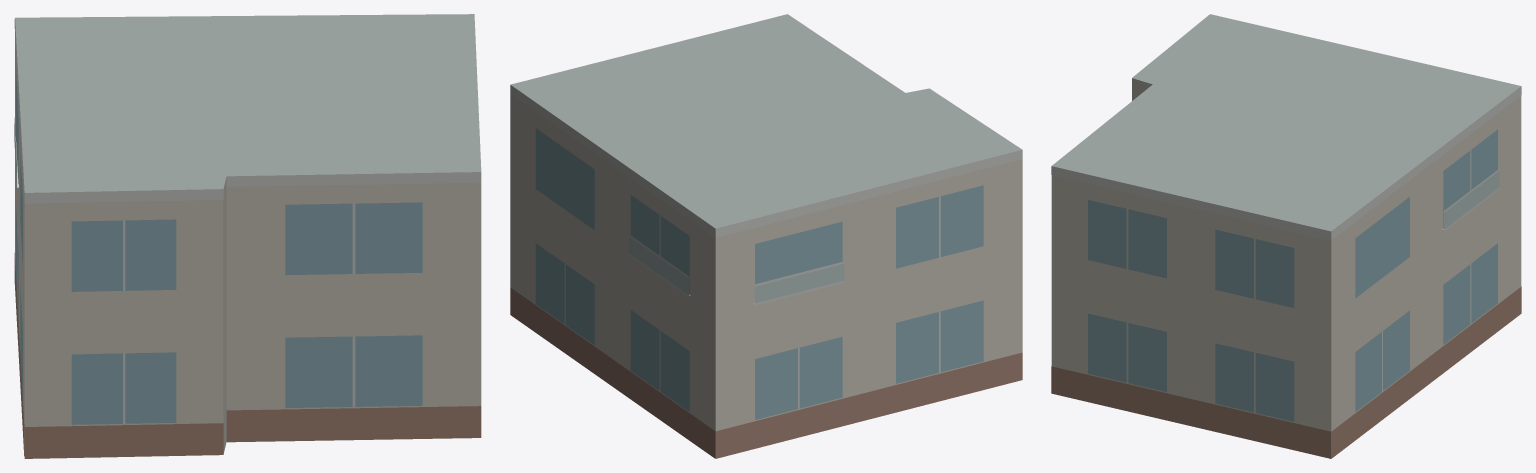
The model's file is survey-upis-32962601.glb.
3 renders of one model, left to right at view 1: azimuth 30°, elevation 25°; view 2: azimuth 150°, elevation 25°; view 3: azimuth 270°, elevation 25°, orthographic. The views are drawn at different scales.
Parts seen in each view (by area): view 1: survey-upis-32962601.tmp; view 2: survey-upis-32962601.tmp; view 3: survey-upis-32962601.tmp.
Boxes of the visible parts, x1,y1,x2,y2 form: survey-upis-32962601.tmp: (14, 14, 481, 458); survey-upis-32962601.tmp: (510, 14, 1022, 458); survey-upis-32962601.tmp: (1051, 14, 1521, 458).
Size of the model in its own units: 12.51 by 6.1 by 11.43.
